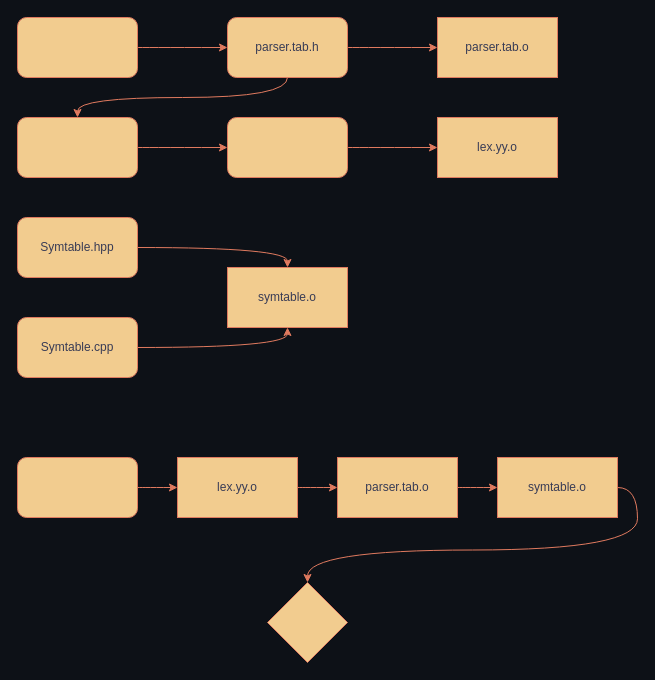
This 655x680 diagram has some shape labels left out. Here are the shapes that lost their labels. From the top down, the centre of each, then its label:
At (77,47): "Parser.y".
At (77,147): "Scanner.l".
At (287,147): "lex.yy.c".
At (77,487): "Main.cpp".
At (307,622): "Syntax Analyser".
